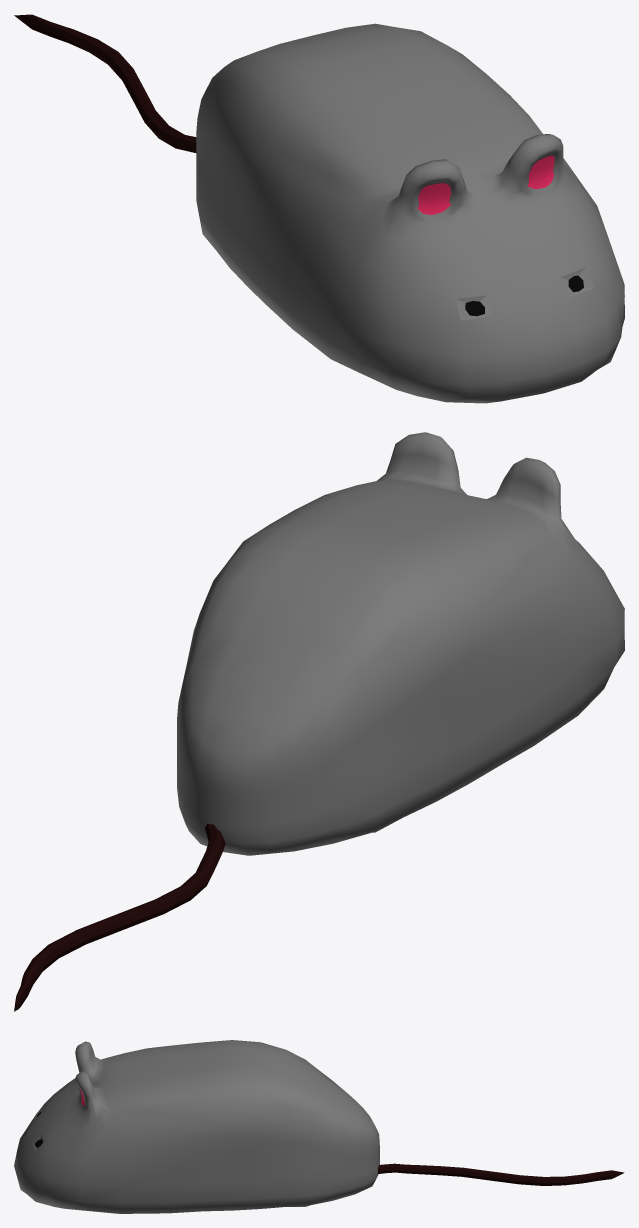
File: mouse.fbx
The picture shows the model from 3 angles, top to bottom: view 1: azimuth 30°, elevation 25°; view 2: azimuth 150°, elevation 25°; view 3: azimuth 270°, elevation 25°; orthographic projection. The views are drawn at different scales.
Visible parts, largest first — view 1: Box001, Line001; view 2: Box001, Line001; view 3: Box001, Line001.
Boxes of the visible parts, x1,y1,x2,y2 form: Box001: [196, 23, 624, 403]; Line001: [14, 14, 196, 152]; Box001: [177, 432, 624, 855]; Line001: [14, 823, 225, 1011]; Box001: [14, 1040, 379, 1213]; Line001: [378, 1163, 624, 1185].
Bounding box in the file's own units: 54.28 × 42.39 × 188.
